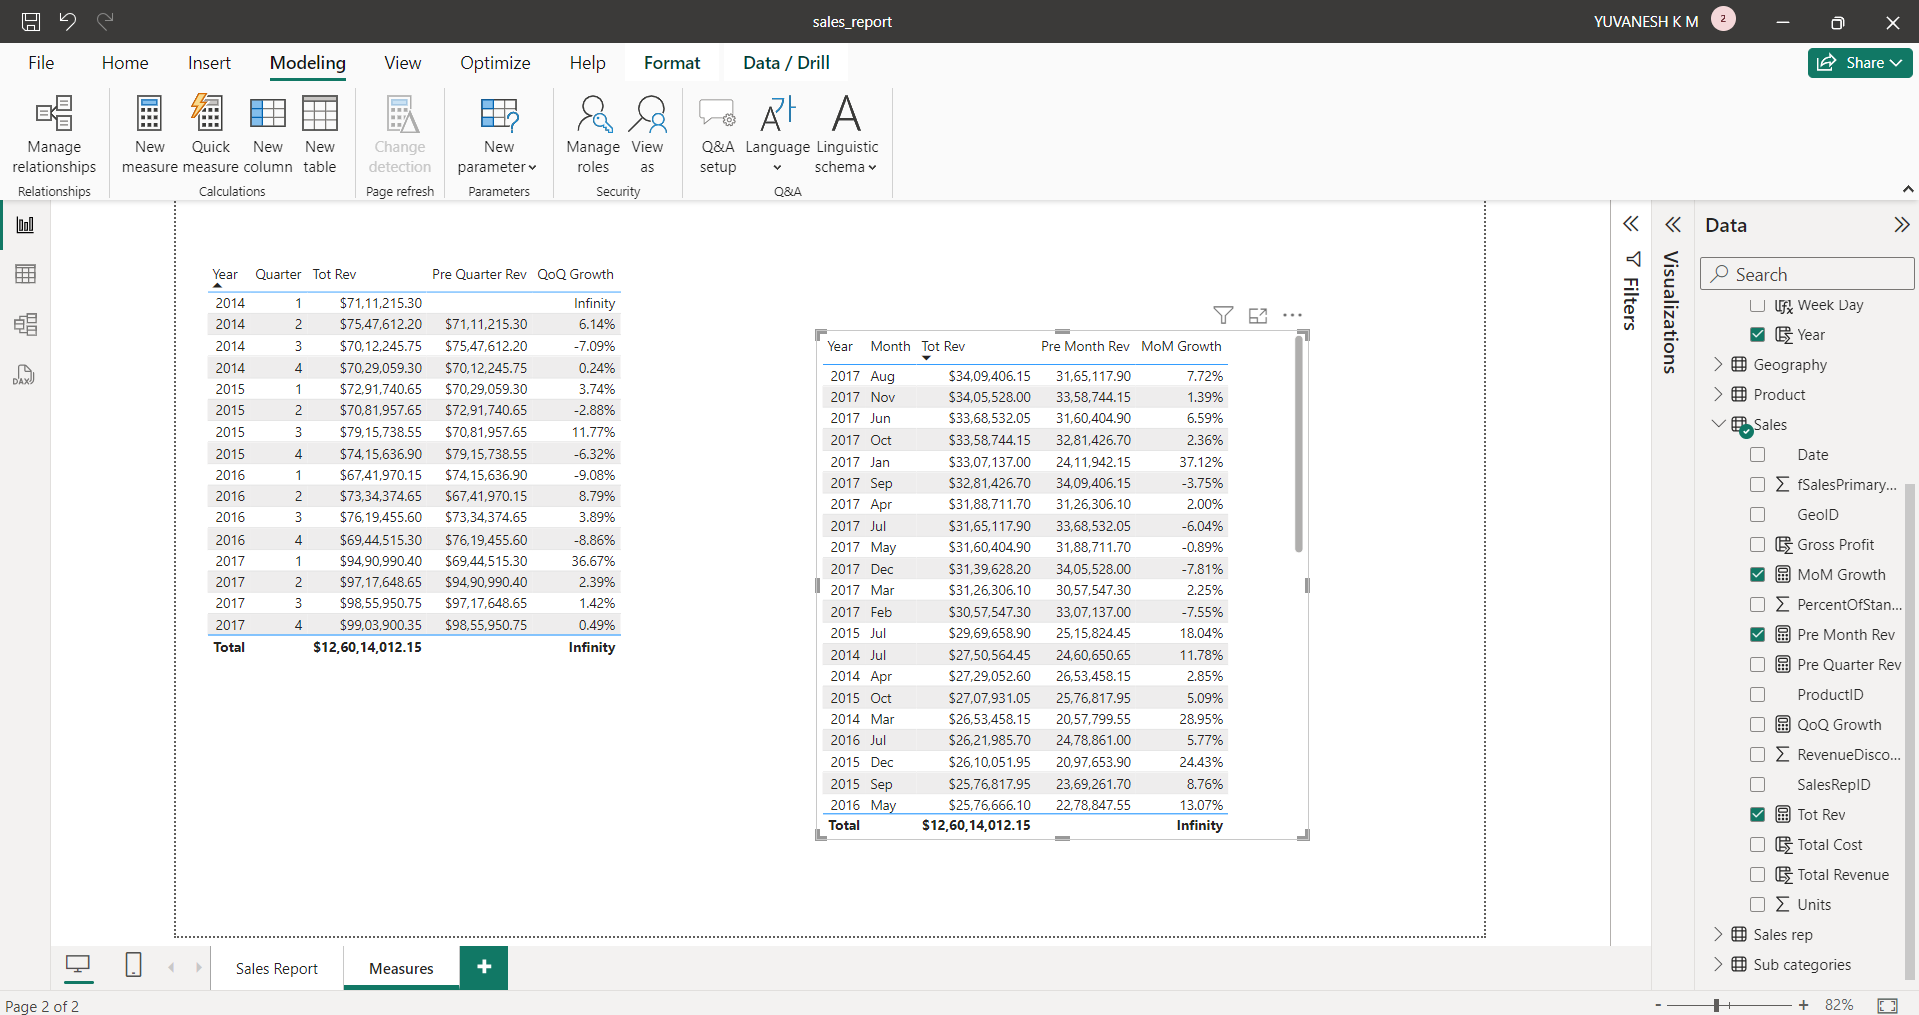

The page's visual inventory and layout, read from the dashboard file:
{"tool":"powerbi","page":{"name":"Measures","canvas":[1280,720],"ordinal":1},"visuals":[{"type":"tableEx","fields":{"Values":["DateMaster.Year","DateMaster.Quarter","Sales.Tot Rev","Sales.Pre Quarter Rev","Sales.QoQ Growth"]},"box":[24.9,56.1,483.7,461.2],"z":0},{"type":"tableEx","fields":{"Values":["DateMaster.Year","DateMaster.Month","Sales.Tot Rev","Sales.Pre Month Rev","Sales.MoM Growth"]},"box":[626.1,127.2,481.8,498.9],"z":1000}]}

Visuals, with their boxes on the page's 1280x720 design canvas (x1, y1, x2, y2). These are canvas units, not pixel positions in the 1919x1015 screenshot, which may show the page scaled, cropped or inside an application window:
tableEx - DateMaster.Year x DateMaster.Quarter: x1=25, y1=56, x2=509, y2=517
tableEx - DateMaster.Year x DateMaster.Month: x1=626, y1=127, x2=1108, y2=626
